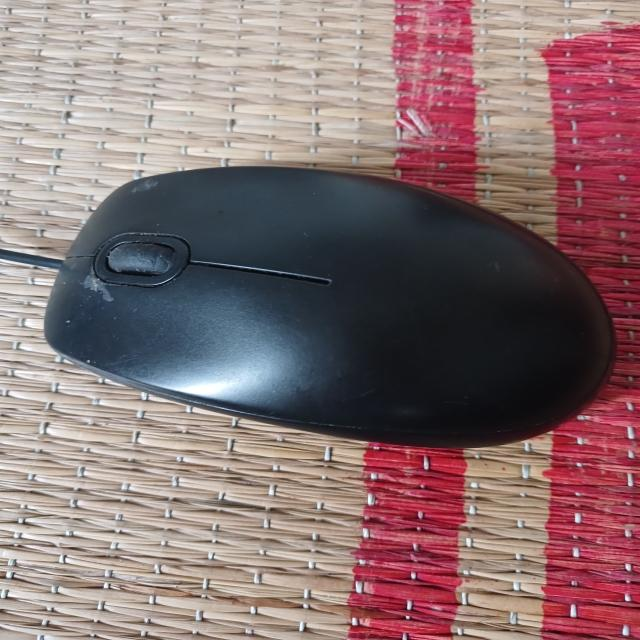mouse: (29, 157, 624, 455)
